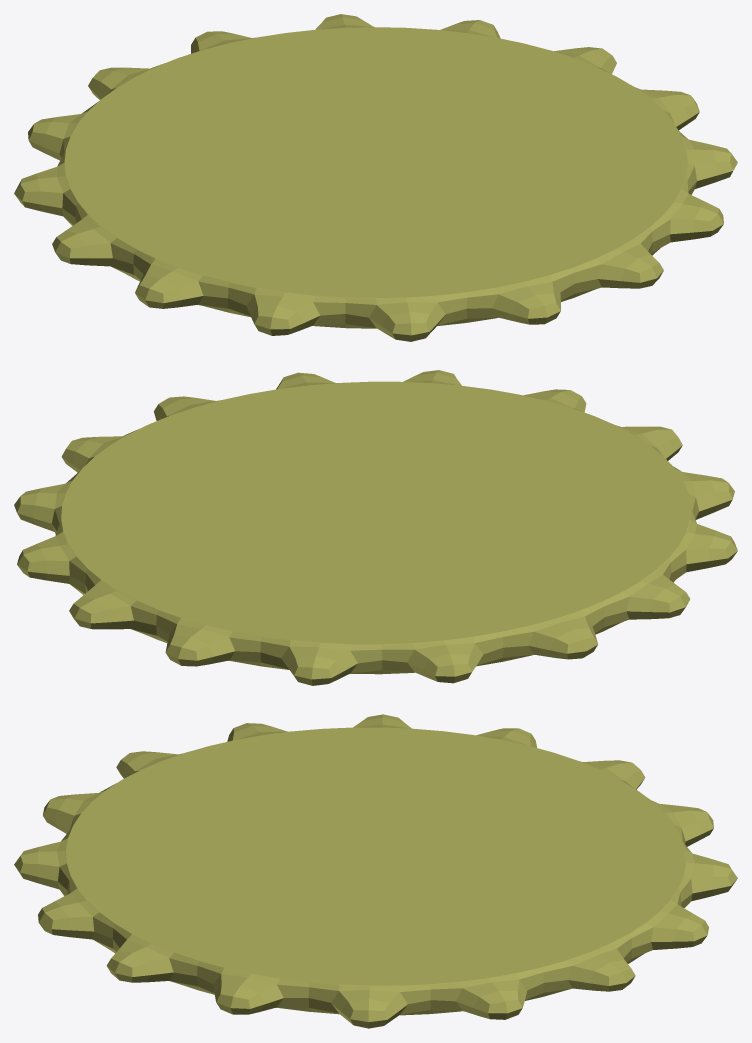
File: gia2.obj
The picture shows the model from 3 angles, top to bottom: view 1: azimuth 30°, elevation 25°; view 2: azimuth 150°, elevation 25°; view 3: azimuth 270°, elevation 25°; orthographic projection. The views are drawn at different scales.
Parts seen in each view (by area): view 1: 円柱.006; view 2: 円柱.006; view 3: 円柱.006.
Part boxes in pixels (box(x1,y1,x2,y2)): 円柱.006: box(14, 14, 737, 341); 円柱.006: box(14, 370, 737, 685); 円柱.006: box(14, 714, 737, 1028).
Bounding box in the file's own units: 0.7383 × 0.0341 × 0.7496.
